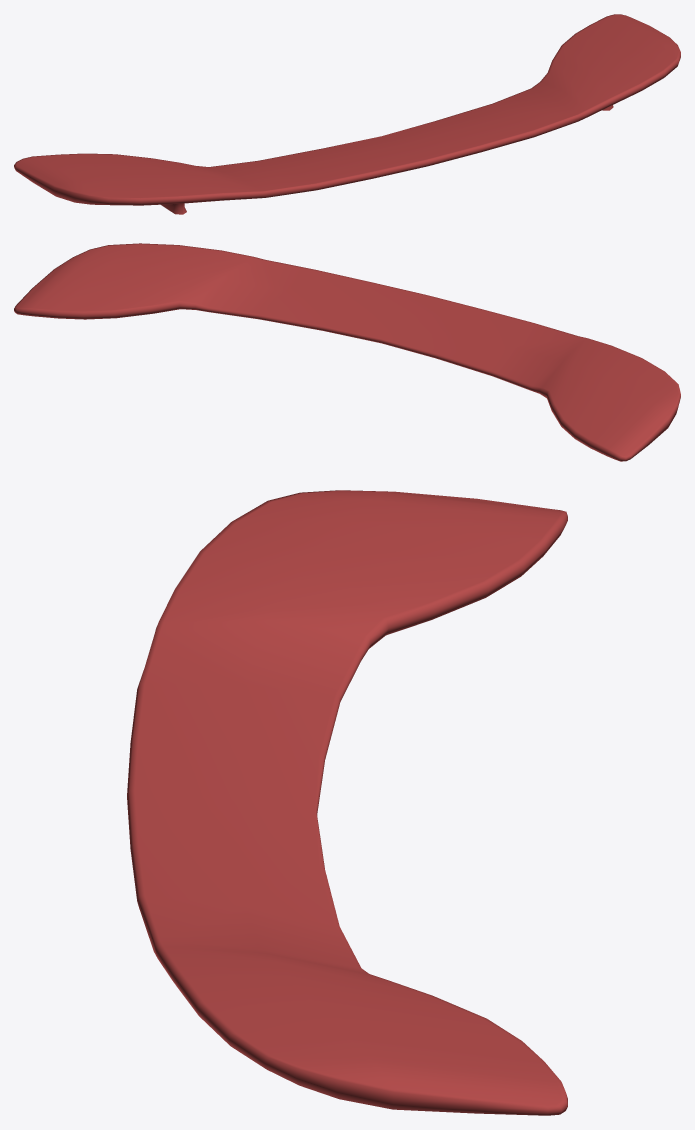
Rendered from spoiler.glb.
3 renders of one model, top to bottom at view 1: azimuth 30°, elevation 25°; view 2: azimuth 150°, elevation 25°; view 3: azimuth 270°, elevation 25°, orthographic. The views are drawn at different scales.
Visible parts, largest first — view 1: spoiler; view 2: spoiler; view 3: spoiler.
Part boxes in pixels (box(x1,y1,x2,y2)): spoiler: box(14, 14, 680, 214); spoiler: box(14, 243, 680, 461); spoiler: box(127, 490, 567, 1115).
Size of the model in its own units: 1.39 by 0.0689 by 0.4289.
